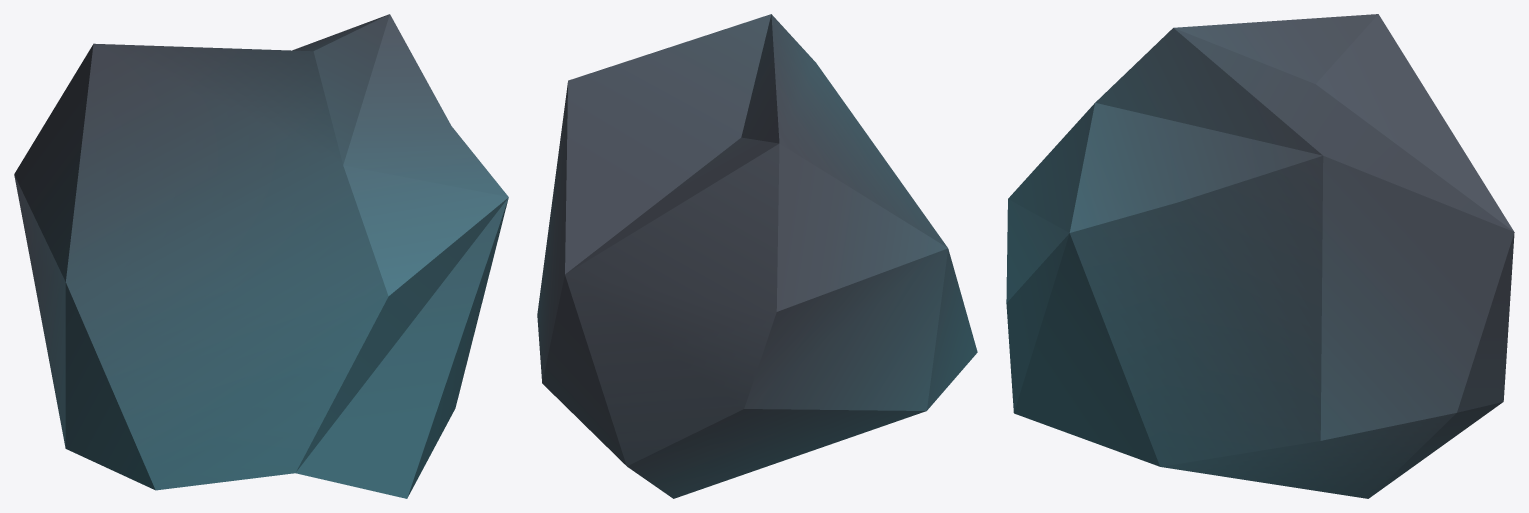
Rendered from Stone_Small_1a.fbx.
The picture shows the model from 3 angles, left to right: view 1: azimuth 30°, elevation 25°; view 2: azimuth 150°, elevation 25°; view 3: azimuth 270°, elevation 25°; orthographic projection. The views are drawn at different scales.
Parts seen in each view (by area): view 1: Stone_Small_1a; view 2: Stone_Small_1a; view 3: Stone_Small_1a.
Part boxes in pixels (left/top/right/bottom): Stone_Small_1a: left=14, top=14, right=508, bottom=498; Stone_Small_1a: left=537, top=14, right=977, bottom=498; Stone_Small_1a: left=1006, top=14, right=1514, bottom=498.
Size of the model in its own units: 2.82 by 3.12 by 3.08.
